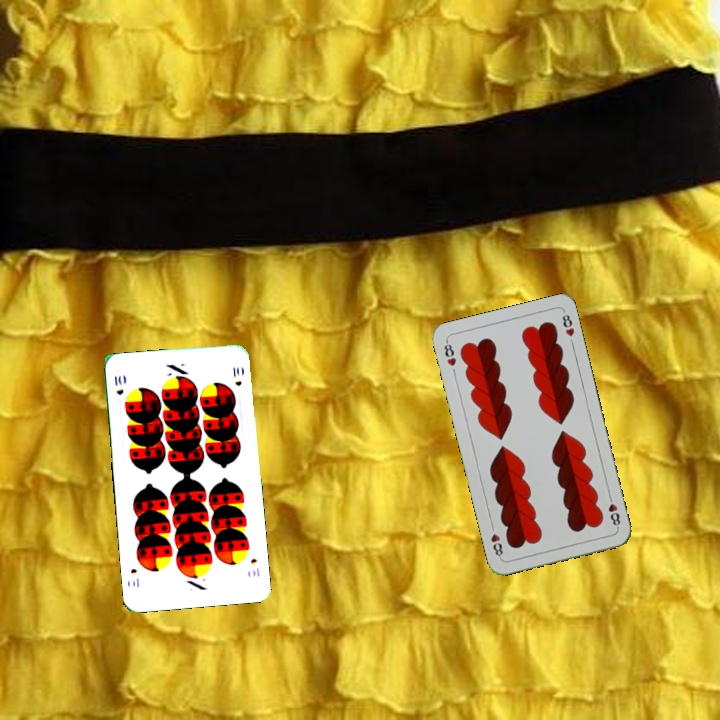H8: (604, 491, 623, 531), (440, 337, 459, 369)
S10: (111, 372, 126, 398), (247, 554, 262, 579)
